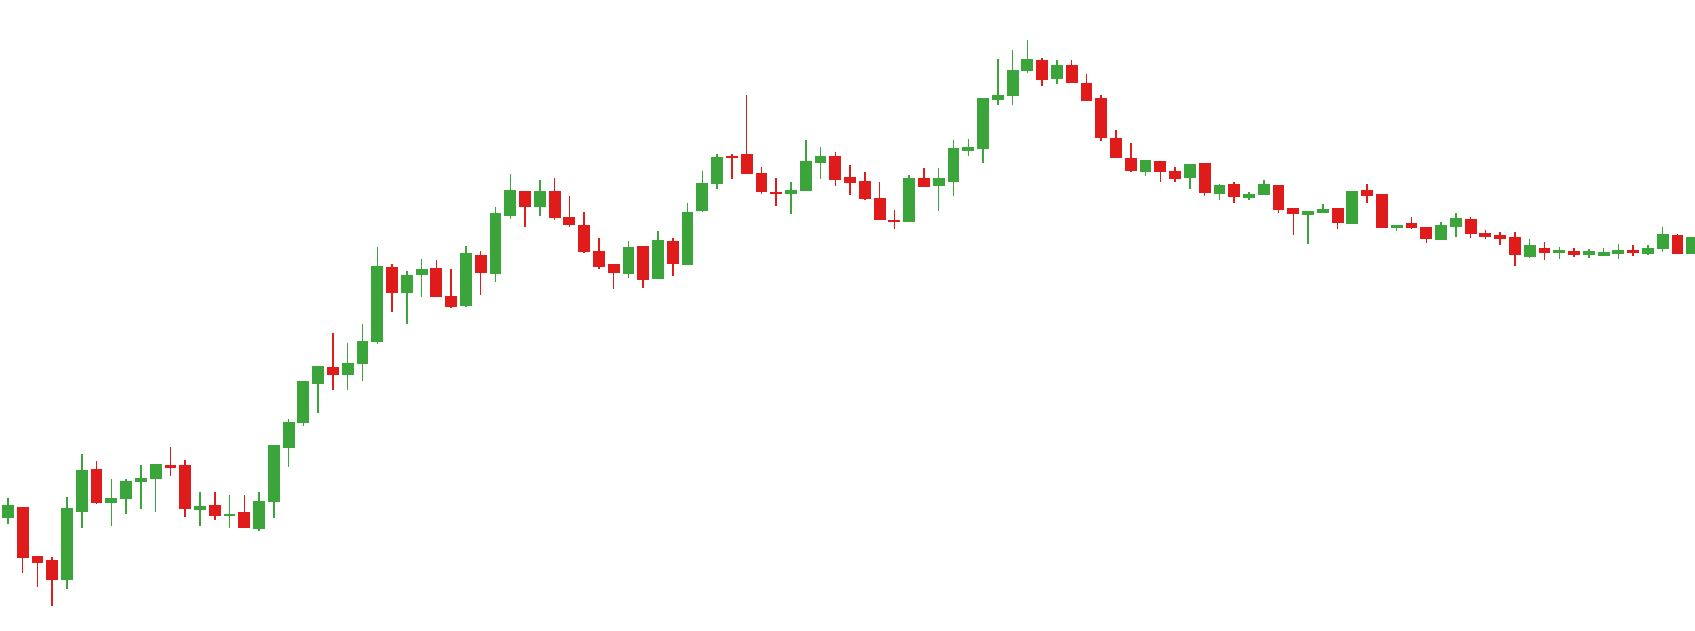buy: (769, 167, 918, 234)
